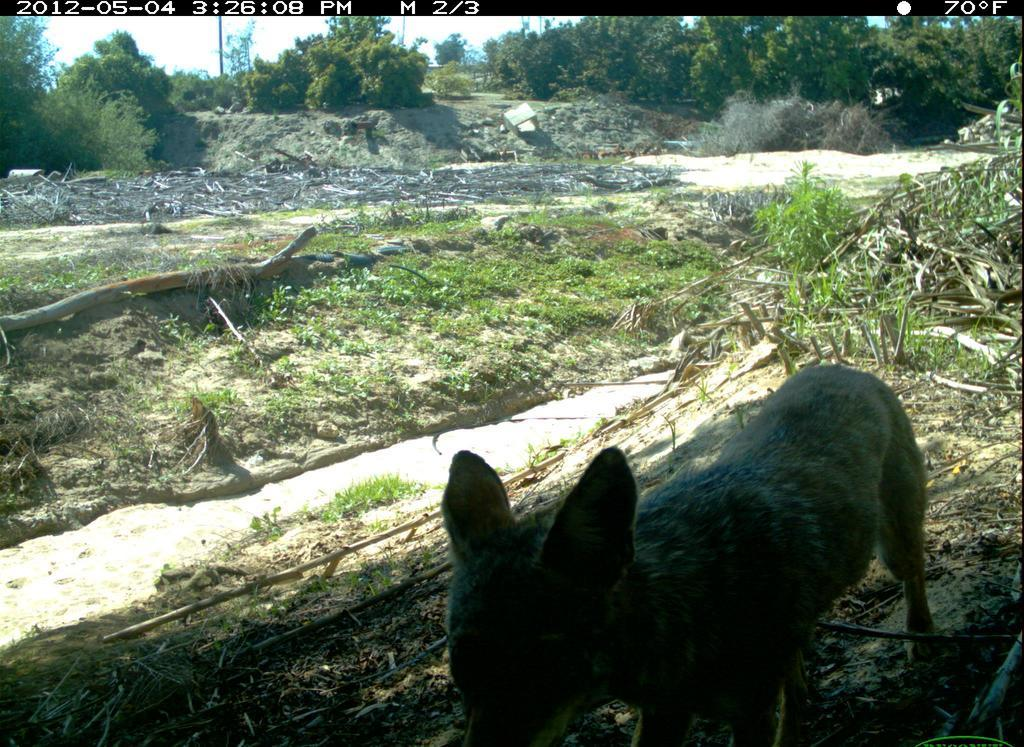coyote: (420, 355, 946, 747)
